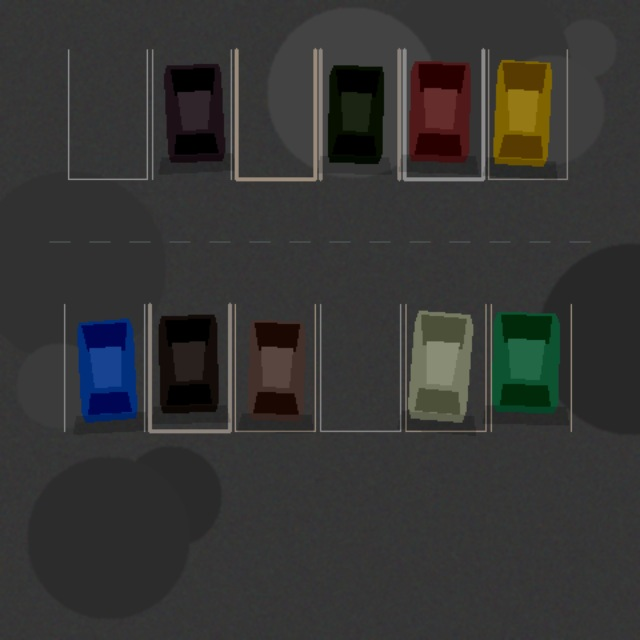space-empty: (68, 49, 147, 179), (236, 49, 315, 179), (320, 304, 400, 431)
space-occupied: (152, 49, 231, 179), (320, 49, 399, 179), (404, 49, 483, 179), (488, 49, 567, 179), (64, 304, 144, 431), (149, 304, 229, 431), (235, 304, 315, 431), (405, 304, 485, 431), (491, 304, 571, 431)
